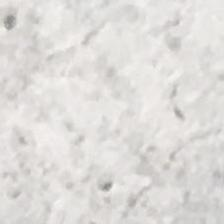Non_Crack: (10, 12, 224, 224)
